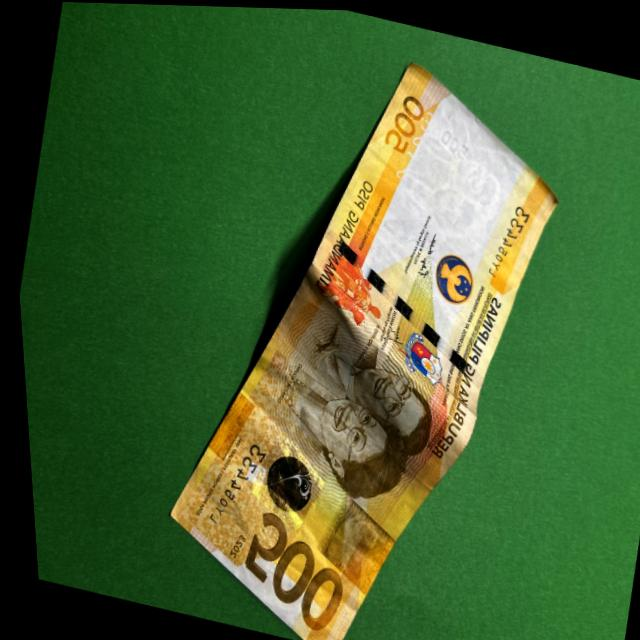concealed_value: (314, 495, 387, 591)
optically_variable_device: (242, 433, 317, 530)
security_thread: (319, 224, 479, 398)
see_through_mark: (386, 84, 450, 191)
serial_number: (194, 436, 262, 529), (477, 196, 536, 287)
value: (231, 499, 340, 638)
value_watermark: (427, 120, 472, 174)
watermark: (395, 99, 524, 262)
